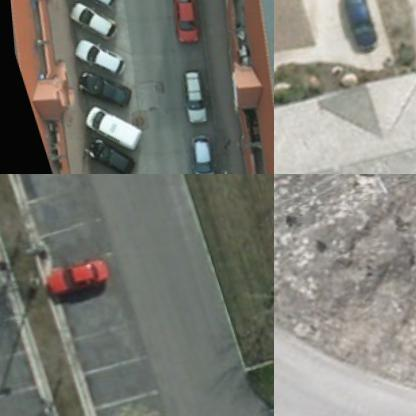car: (64, 28, 126, 83), (70, 61, 128, 116), (333, 0, 383, 58), (38, 258, 106, 298), (62, 0, 120, 44), (168, 66, 209, 127), (77, 129, 129, 173), (155, 0, 203, 45), (173, 131, 216, 173), (56, 0, 118, 16)
van: (72, 95, 140, 159)
